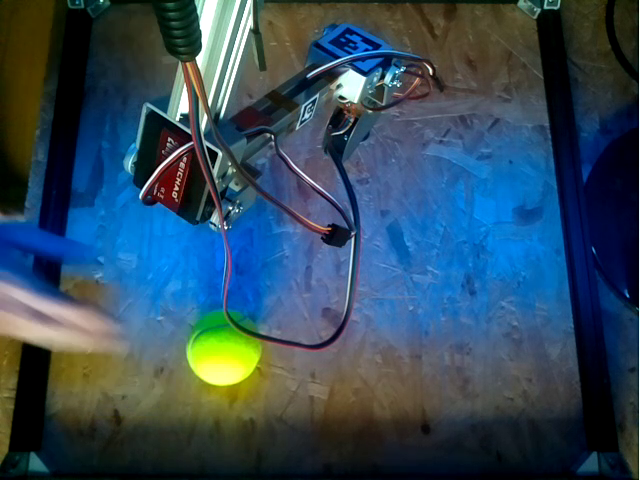tennis_ball: (186, 310, 262, 387)
